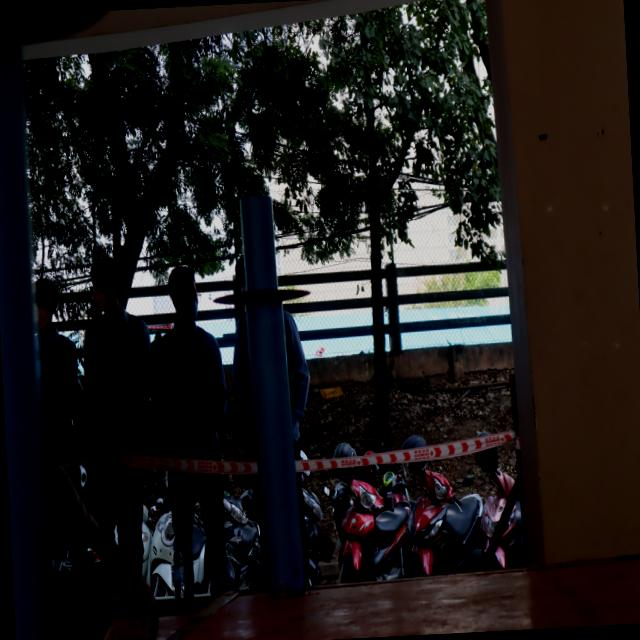pole: (203, 185, 322, 394)
